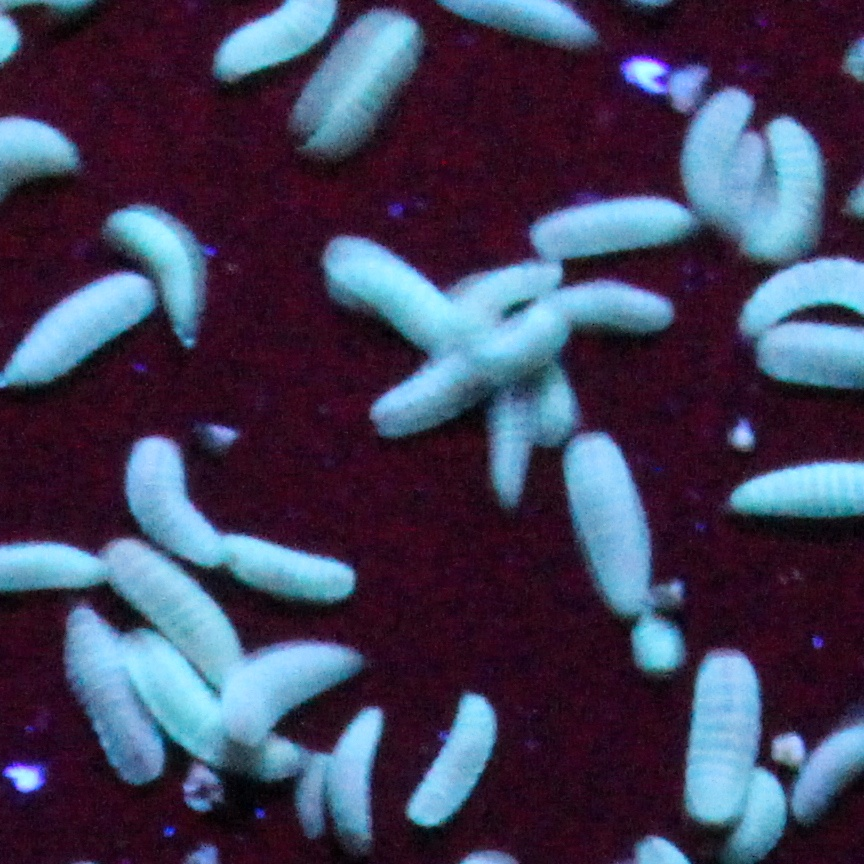larve: (10, 280, 166, 404), (50, 632, 170, 776), (286, 20, 418, 144), (322, 236, 454, 352), (402, 696, 502, 828), (126, 448, 230, 572), (122, 208, 210, 340), (238, 648, 358, 740), (694, 656, 754, 824), (574, 428, 626, 608), (406, 352, 494, 440), (538, 200, 706, 244), (218, 544, 350, 600), (226, 8, 338, 68), (462, 1, 578, 44), (706, 100, 742, 232), (510, 304, 710, 324), (498, 380, 518, 504), (790, 120, 806, 260)
